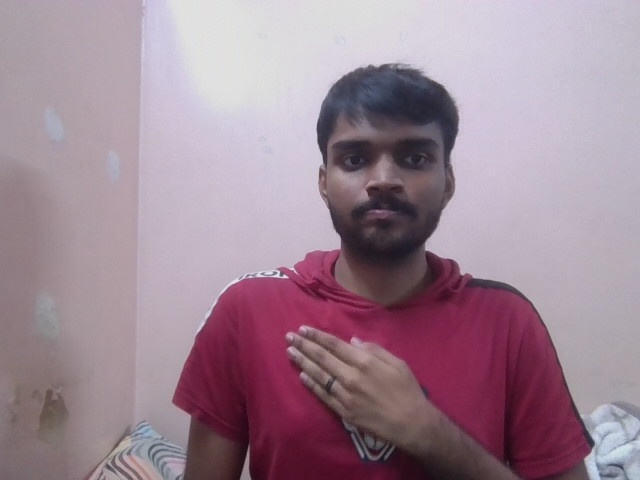Please: (284, 326, 418, 442)
